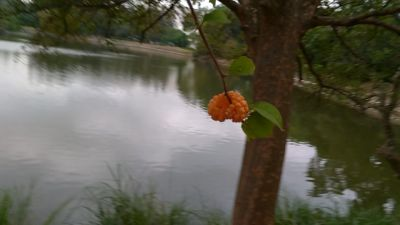eggs: (208, 89, 250, 125)
